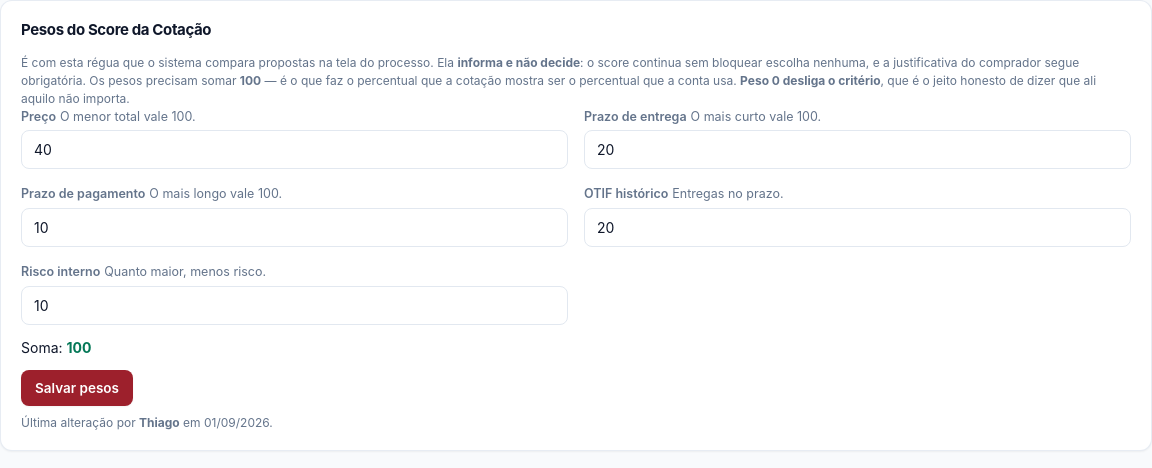
Test: tela dos pesos do score › a soma aparece enquanto se digita, e fora de 100 o botão não libera
Step 1. Replace the text in the number field labelled "Preço" with "50" → (294, 150), box [21,130,568,169]
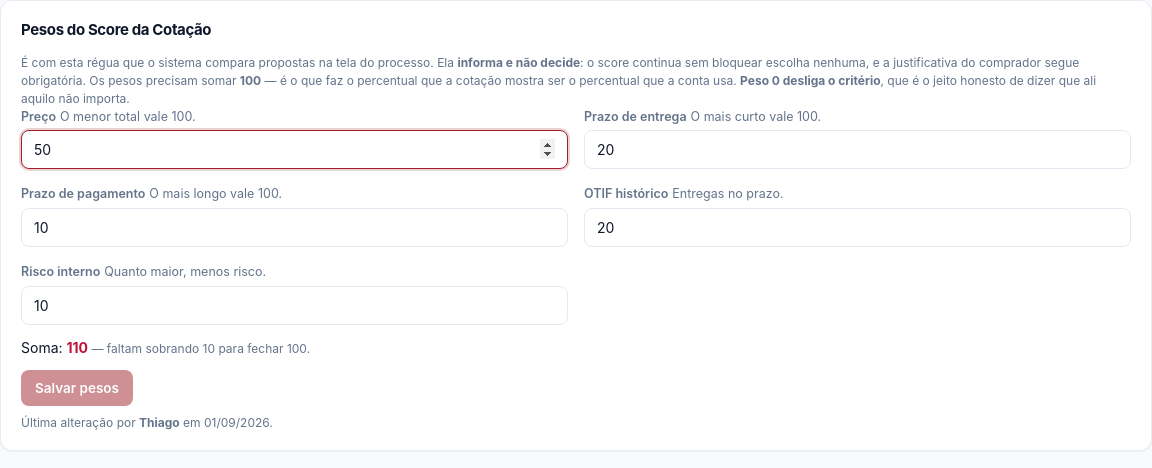
Check: the button "Salvar pesos" is disabled, box [21,370,133,406]
Check: the element with test id "soma-dos-pesos" shows "110", box [66,339,88,356]
